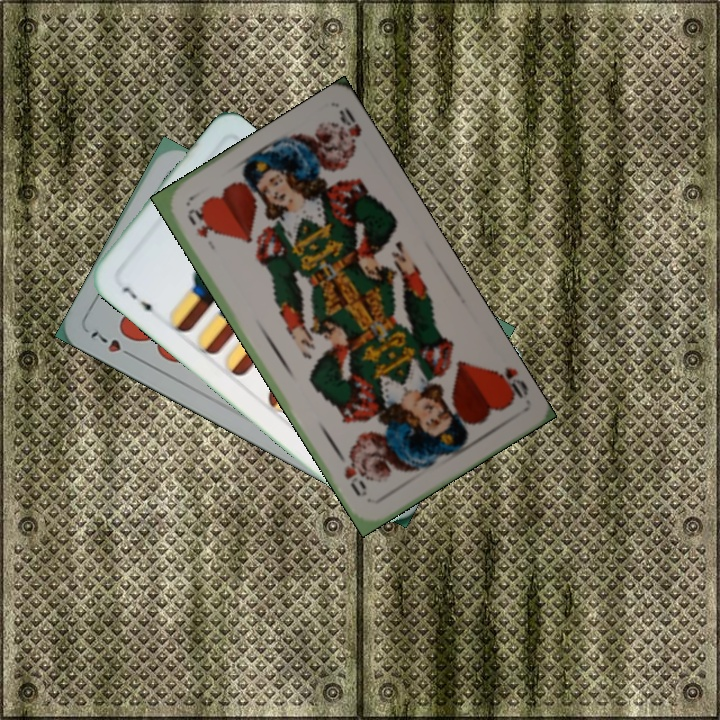E7: (117, 282, 158, 319)
H7: (86, 327, 139, 362)
HO: (484, 363, 531, 407), (183, 204, 211, 241)
